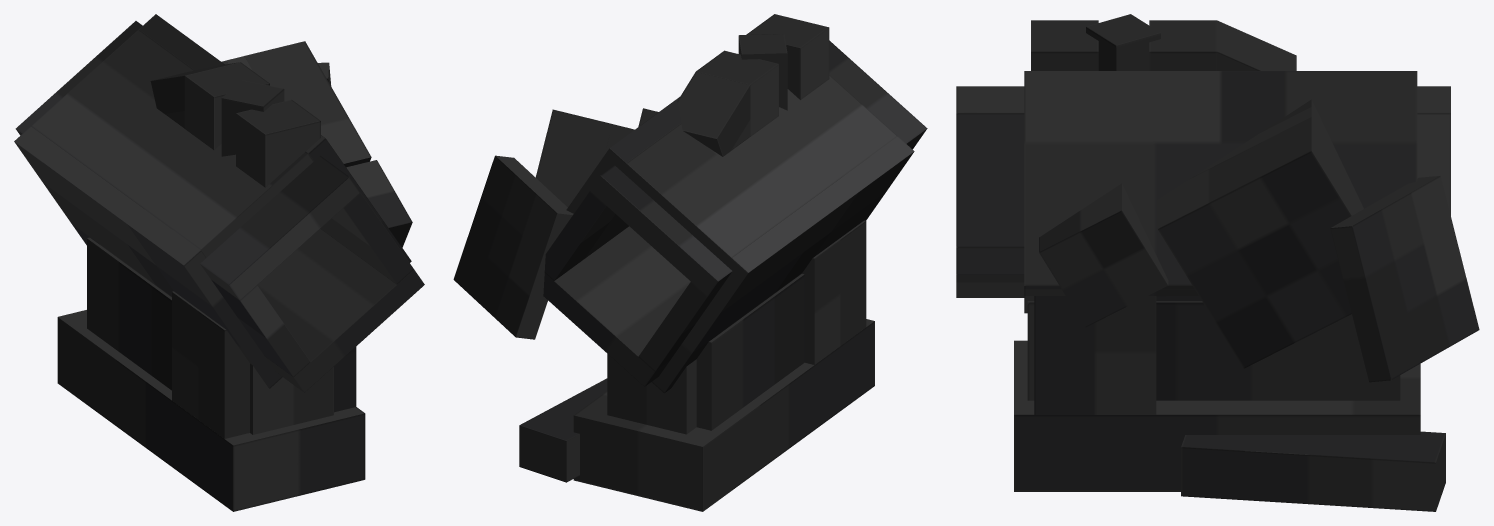
File: aimpoint_t2.fbx
3 views of the same model, side by side, from view 1: azimuth 30°, elevation 25°; view 2: azimuth 150°, elevation 25°; view 3: azimuth 270°, elevation 25° (orthographic). The views are drawn at different scales.
Visible parts, largest first — view 1: gun; view 2: gun; view 3: gun.
Part boxes in pixels (x1=…): gun: x1=14, y1=14, x2=424, y2=511; gun: x1=453, y1=14, x2=927, y2=511; gun: x1=956, y1=14, x2=1479, y2=511.
Size of the model in its own units: 38.53 by 43.29 by 48.25.
